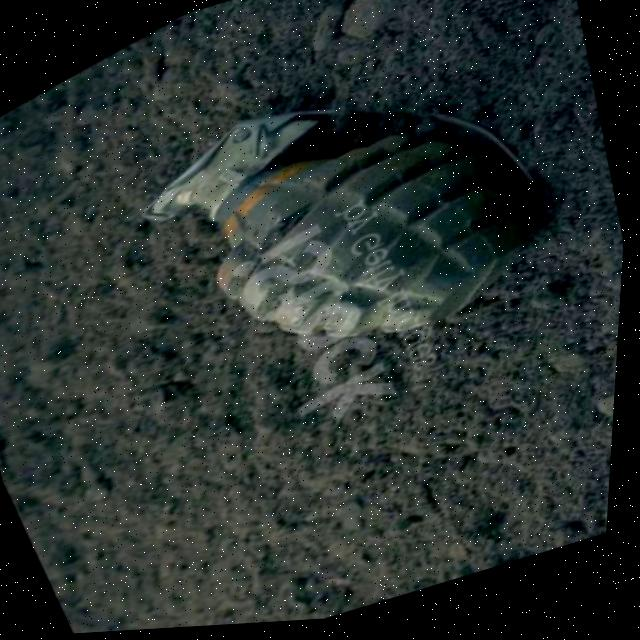grenade: (96, 0, 604, 454)
